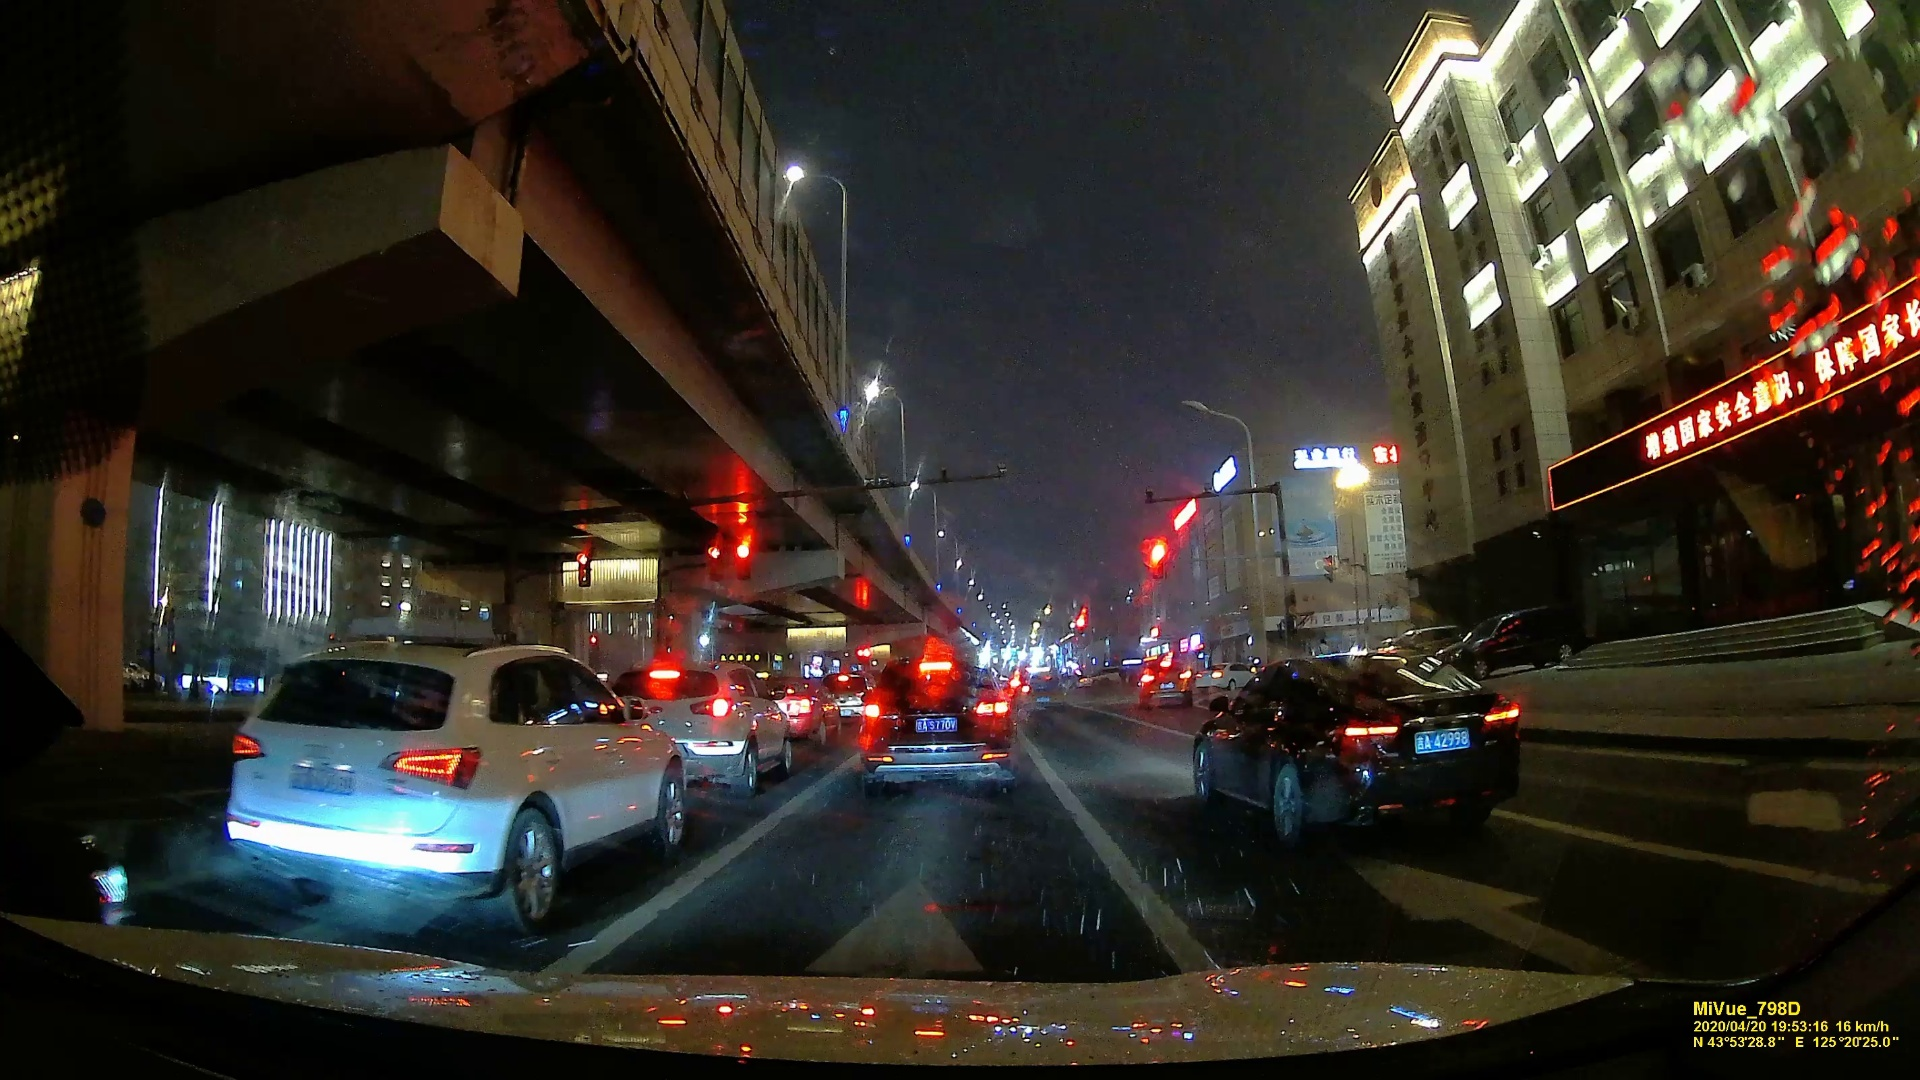traffic_sign: (1147, 541, 1168, 578), (705, 542, 725, 578), (575, 553, 593, 587)
vehicle: (222, 629, 686, 938), (1193, 644, 1516, 843), (607, 662, 782, 798), (853, 659, 1007, 793), (1138, 657, 1191, 702), (733, 538, 753, 580), (833, 696, 858, 723)
